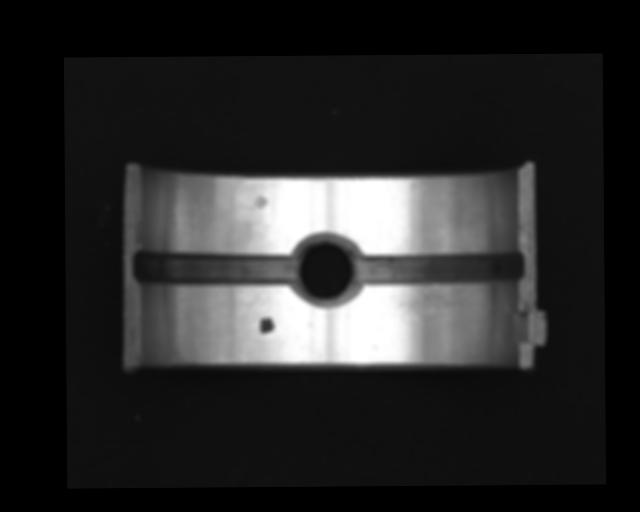blot: (259, 315, 274, 334)
bruise: (253, 194, 268, 210)
gap: (355, 250, 526, 285), (133, 251, 297, 286)
hole: (290, 237, 360, 304)
nick: (391, 195, 403, 249)
scratch: (398, 285, 474, 325)
